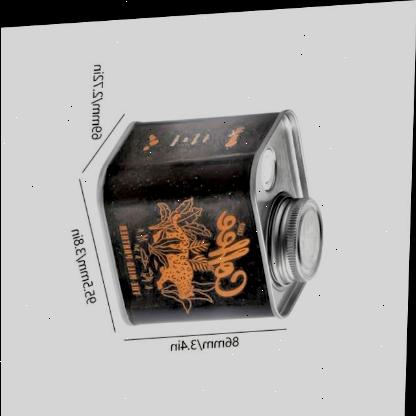Can: (96, 110, 322, 326)
